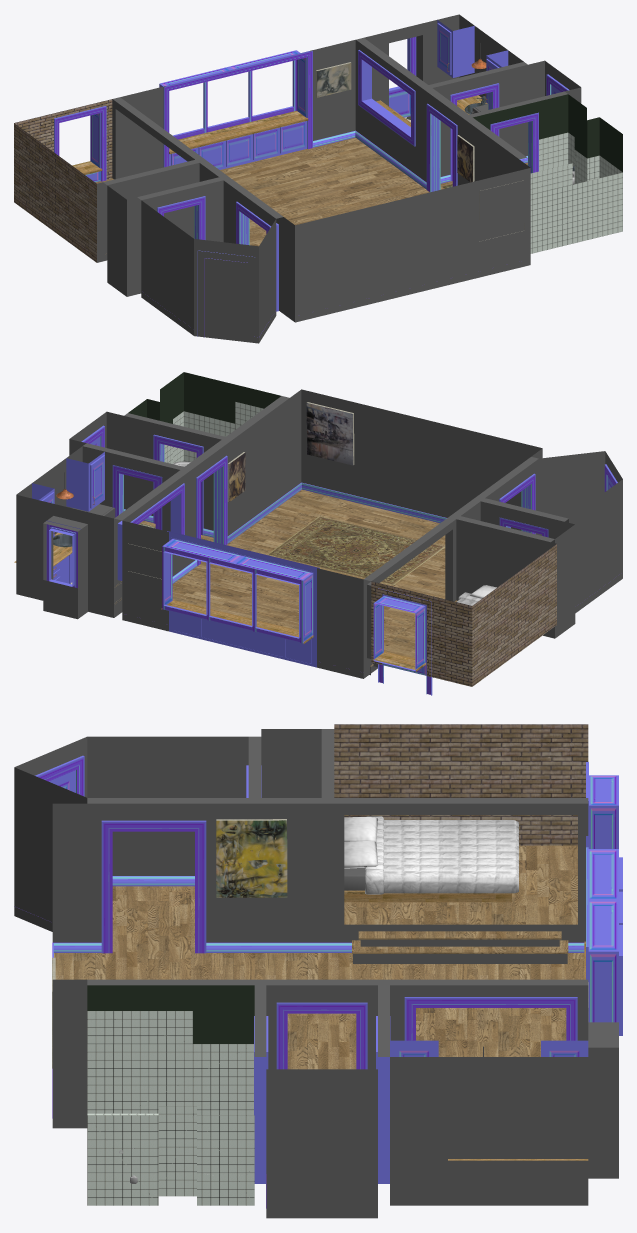
File: apartMentStaticFBX.fbx
3 views of the same model, one above another, from view 1: azimuth 30°, elevation 25°; view 2: azimuth 150°, elevation 25°; view 3: azimuth 270°, elevation 25° (orthographic). The views are drawn at different scales.
Parts seen in each view (by area): view 1: polySurface461, polySurface465, polySurface429, polySurface447, polySurface458, polySurface373, polySurface463, polySurface448, polySurface464, polySurface452, polySurface451, polySurface450 (+2 smaller); view 2: polySurface461, polySurface465, polySurface463, polySurface429, polySurface447, polySurface373, polySurface145, polySurface448, polySurface464, polySurface452, polySurface451, polySurface335 (+4 smaller); view 3: polySurface463, polySurface461, polySurface458, polySurface429, polySurface465, polySurface373, polySurface445, polySurface378, polySurface464, polySurface447, polySurface450, polySurface452 (+5 smaller).
Boxes of the visible parts, x1=… form: polySurface461: x1=120, y1=39, x2=530, y2=322; polySurface465: x1=97, y1=99, x2=276, y2=343; polySurface429: x1=220, y1=137, x2=429, y2=246; polySurface447: x1=54, y1=50, x2=312, y2=182; polySurface458: x1=530, y1=132, x2=622, y2=253; polySurface373: x1=14, y1=99, x2=112, y2=262; polySurface463: x1=364, y1=14, x2=581, y2=176; polySurface448: x1=313, y1=20, x2=508, y2=189; polySurface464: x1=103, y1=37, x2=567, y2=218; polySurface452: x1=473, y1=94, x2=622, y2=172; polySurface451: x1=426, y1=74, x2=569, y2=192; polySurface450: x1=157, y1=196, x2=278, y2=337; polySurface461: x1=122, y1=389, x2=542, y2=678; polySurface465: x1=367, y1=451, x2=622, y2=658; polySurface463: x1=16, y1=411, x2=221, y2=619; polySurface429: x1=172, y1=489, x2=445, y2=639; polySurface447: x1=162, y1=531, x2=432, y2=695; polySurface373: x1=371, y1=544, x2=556, y2=686; polySurface145: x1=138, y1=516, x2=444, y2=584; polySurface448: x1=32, y1=452, x2=196, y2=588; polySurface464: x1=83, y1=396, x2=568, y2=581; polySurface452: x1=128, y1=372, x2=280, y2=423; polySurface451: x1=81, y1=425, x2=301, y2=566; polySurface335: x1=128, y1=402, x2=354, y2=579; polySurface463: x1=266, y1=985, x2=618, y2=1218; polySurface461: x1=52, y1=803, x2=588, y2=1128; polySurface458: x1=87, y1=1011, x2=254, y2=1205; polySurface429: x1=54, y1=886, x2=584, y2=1069; polySurface465: x1=14, y1=729, x2=321, y2=931; polySurface373: x1=334, y1=724, x2=588, y2=845; polySurface445: x1=344, y1=845, x2=577, y2=953; polySurface378: x1=365, y1=816, x2=518, y2=894; polySurface464: x1=87, y1=729, x2=588, y2=1056; polySurface447: x1=586, y1=762, x2=622, y2=1035; polySurface450: x1=18, y1=755, x2=351, y2=1118; polySurface452: x1=87, y1=985, x2=254, y2=1043.
Size of the model in its own units: 16.01 by 3.26 by 11.94.
